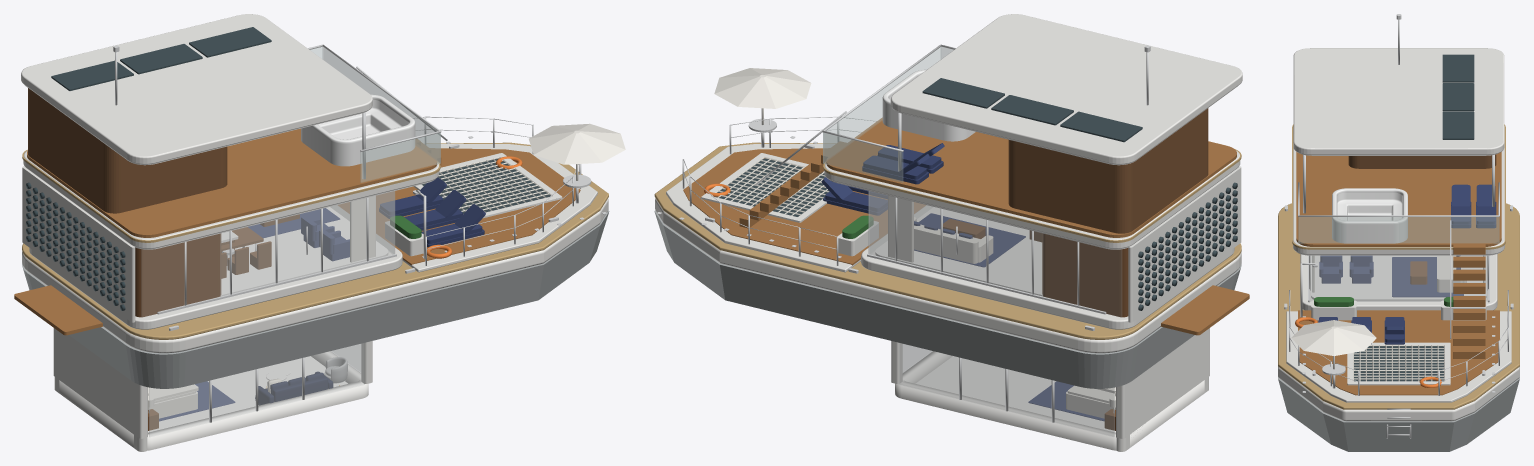
File: seahorse.glb
The picture shows the model from 3 angles, left to right: view 1: azimuth 30°, elevation 25°; view 2: azimuth 150°, elevation 25°; view 3: azimuth 270°, elevation 25°; orthographic projection. The views are drawn at different scales.
Parts seen in each view (by area): view 1: upper_canopy, hull_submerged, main_glass, upper_floor, upper_block, uw_glass_s, hull_freeboard, hull_trim, stern_panel, bow_deck, main_core, uw_sill (+32 smaller); view 2: upper_canopy, hull_submerged, main_glass, upper_block, upper_floor, uw_glass_p, hull_freeboard, hull_trim, bow_deck, stern_panel, uw_sill, main_core (+30 smaller); view 3: upper_canopy, upper_floor, hull_trim, hull_submerged, main_glass, bow_deck, upper_balustrade, jacuzzi_shell, external_stair, bow_rim, hull_freeboard, main_floorplate (+25 smaller).
Boxes of the visible parts, <box> form: upper_canopy: <box>21,14,372,164</box>; hull_submerged: <box>22,210,609,388</box>; main_glass: <box>141,191,394,317</box>; upper_floor: <box>27,128,437,237</box>; upper_block: <box>28,88,227,213</box>; uw_glass_s: <box>149,343,364,436</box>; hull_freeboard: <box>22,198,608,353</box>; hull_trim: <box>22,142,608,339</box>; stern_panel: <box>22,166,135,322</box>; bow_deck: <box>338,148,580,265</box>; main_core: <box>135,233,221,317</box>; uw_sill: <box>59,351,368,450</box>; upper_canopy: <box>890,14,1242,164</box>; hull_submerged: <box>654,210,1241,388</box>; main_glass: <box>868,191,1121,317</box>; upper_block: <box>1008,108,1208,233</box>; upper_floor: <box>826,117,1236,237</box>; uw_glass_p: <box>899,343,1114,436</box>; hull_freeboard: <box>655,198,1241,353</box>; hull_trim: <box>654,142,1241,339</box>; bow_deck: <box>683,148,925,265</box>; stern_panel: <box>1128,166,1241,322</box>; uw_sill: <box>895,351,1204,450</box>; main_core: <box>1042,233,1128,317</box>; upper_canopy: <box>1293,48,1504,154</box>; upper_floor: <box>1296,152,1501,246</box>; hull_trim: <box>1278,203,1519,409</box>; hull_submerged: <box>1278,377,1519,451</box>; main_glass: <box>1309,255,1488,301</box>; bow_deck: <box>1298,310,1499,395</box>; upper_balustrade: <box>1298,217,1499,243</box>; jacuzzi_shell: <box>1332,188,1407,243</box>; external_stair: <box>1453,244,1485,358</box>; bow_rim: <box>1286,311,1511,402</box>; hull_freeboard: <box>1278,366,1519,421</box>; main_floorplate: <box>1311,255,1486,301</box>.
Size of the model in its own units: 19.36 by 12.71 by 8.75.
